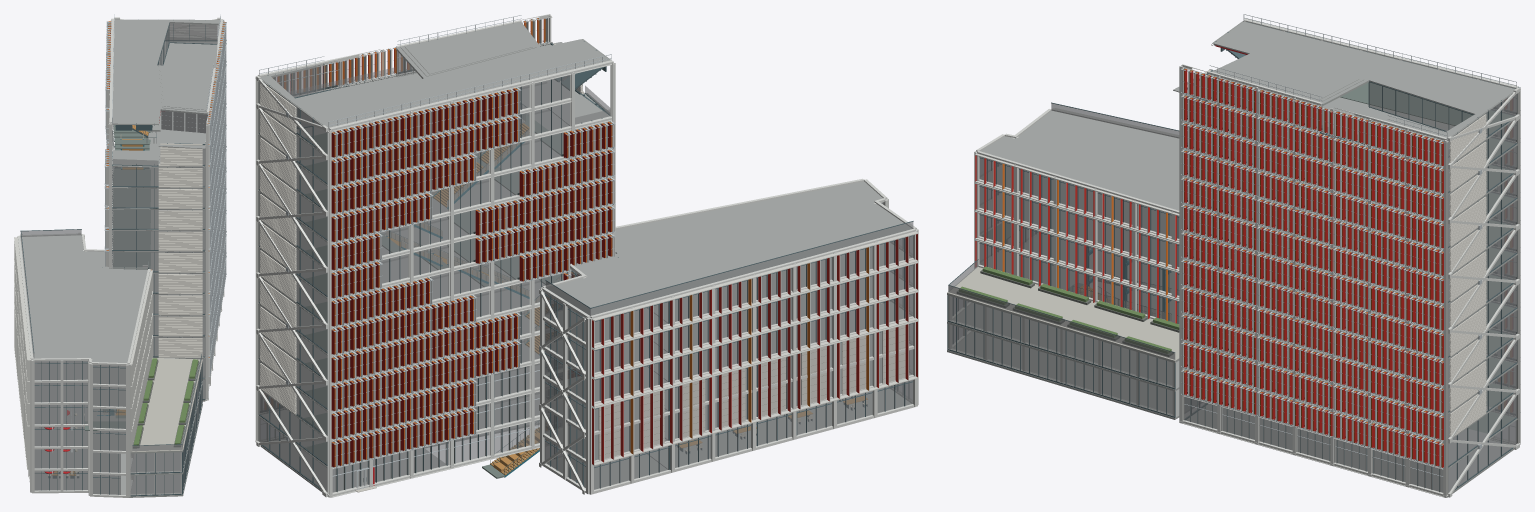
The model's file is cbg-exterior-aad8e4e1dab9.glb.
3 renders of one model, left to right at view 1: azimuth 30°, elevation 25°; view 2: azimuth 150°, elevation 25°; view 3: azimuth 270°, elevation 25°, orthographic. The views are drawn at different scales.
Parts seen in each view (by area): view 1: CBG.001; view 2: CBG.001; view 3: CBG.001.
Part boxes in pixels (box(x1,y1,x2,y2)): CBG.001: box(14, 14, 226, 497); CBG.001: box(255, 14, 918, 497); CBG.001: box(947, 14, 1520, 497).
Bounding box in the file's own units: 69.13 × 57.77 × 76.15.
